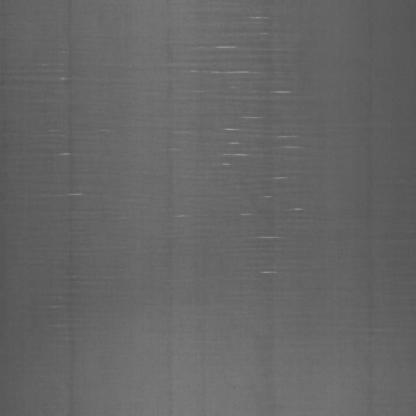waist_folding: (8, 8, 333, 317)
